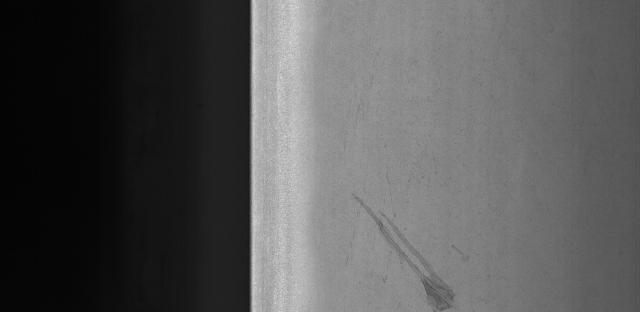water_spot: (348, 183, 492, 312)
